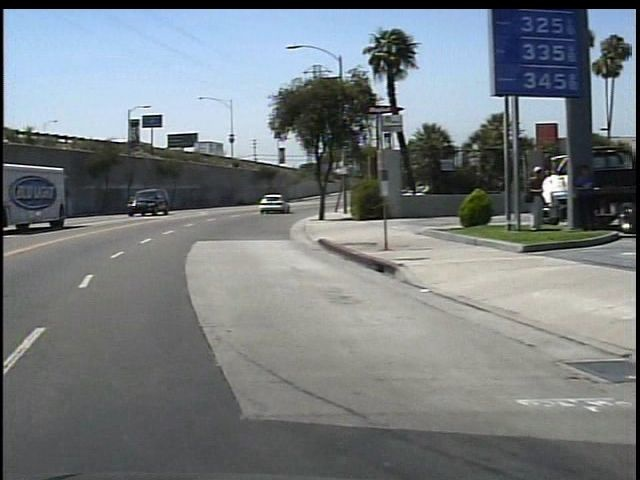person: (516, 165, 543, 233)
